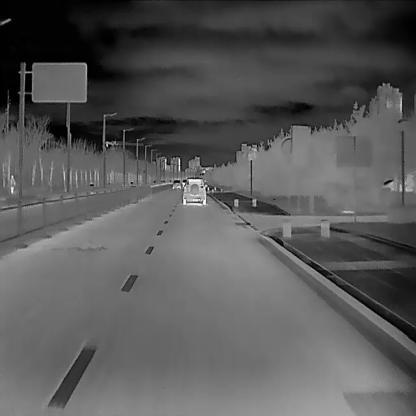car: (182, 176, 207, 205), (172, 179, 181, 189), (182, 179, 187, 187)
